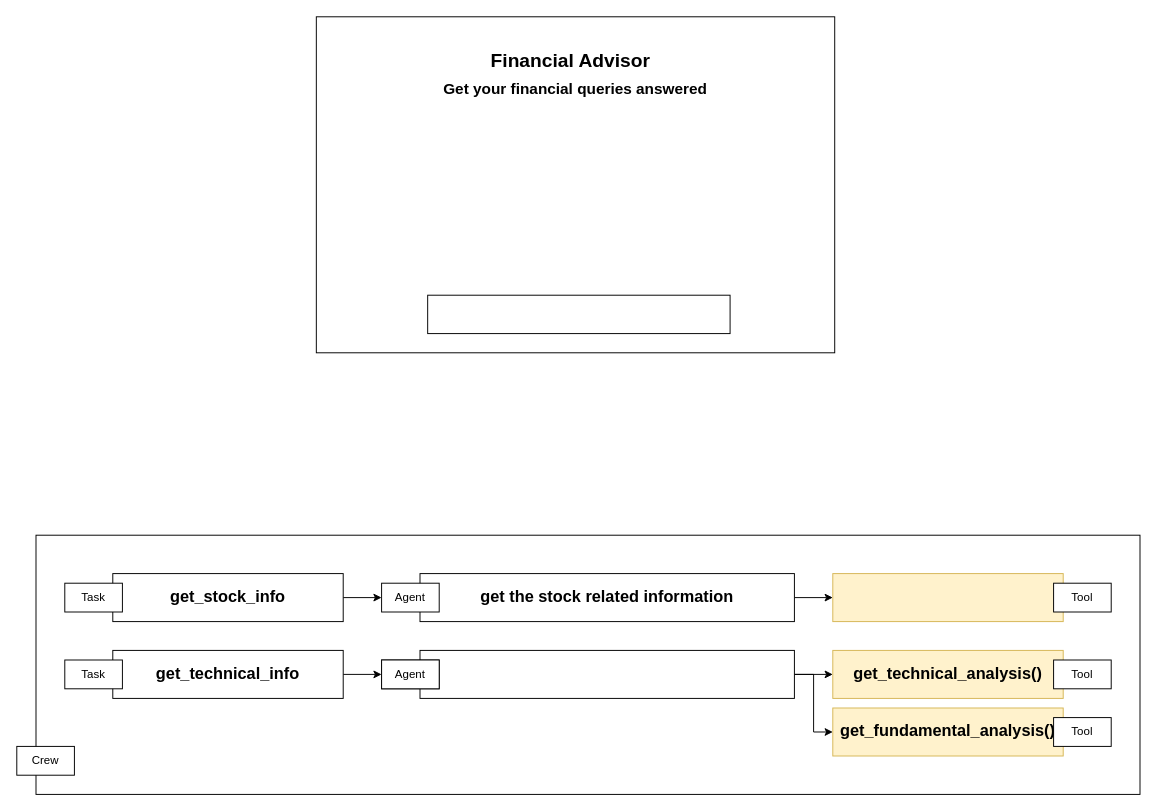
The diagram is 1157 pixels wide and 811 high, and some of its shapes have lost their labels. The centre of each missing label's shape, as x and y in pixels:
get_stock_info(): the point at 947,597
technical analysis and financial analysis: the point at 606,673
